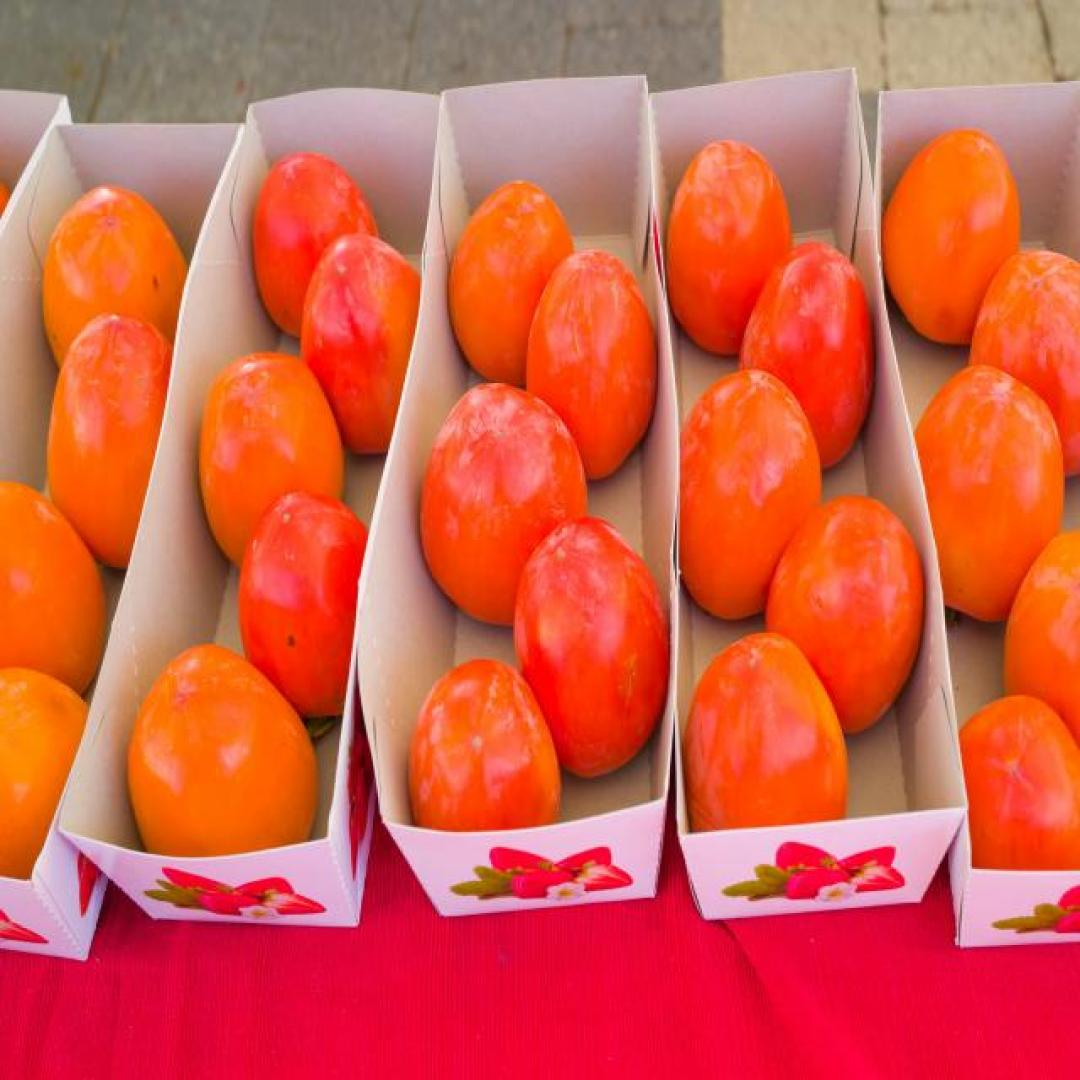matang: (680, 633, 852, 898), (418, 380, 592, 628), (511, 513, 670, 780), (908, 365, 1068, 626), (676, 372, 822, 624), (238, 489, 385, 719), (738, 243, 874, 478), (527, 248, 658, 481), (300, 234, 436, 458)
setengah_matang: (126, 645, 320, 901)
